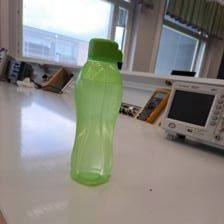bottle: (67, 38, 125, 187)
